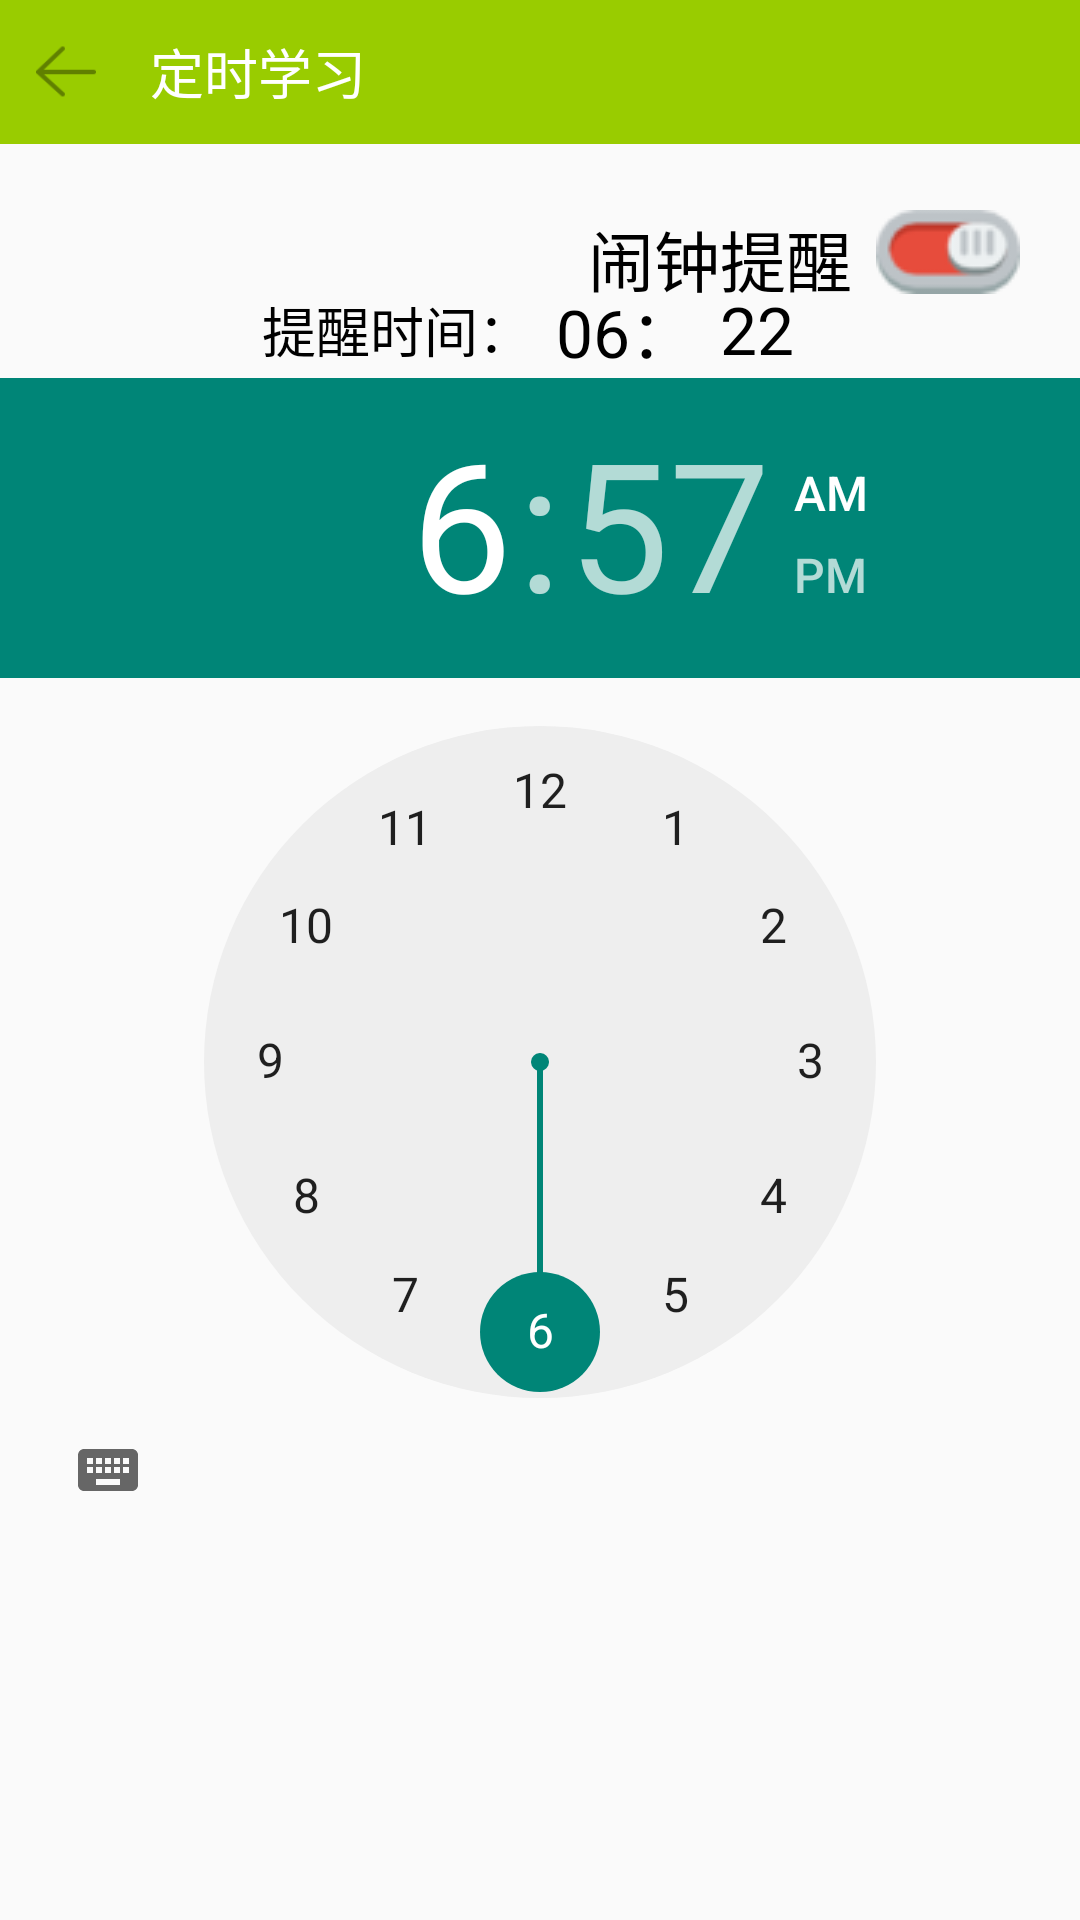

Icons on this 1080px×1920px Android screen, each with its box as region(x1, y1, x2, y2):
login ban back prs: region(36, 46, 96, 97)
off: region(876, 210, 1020, 294)
